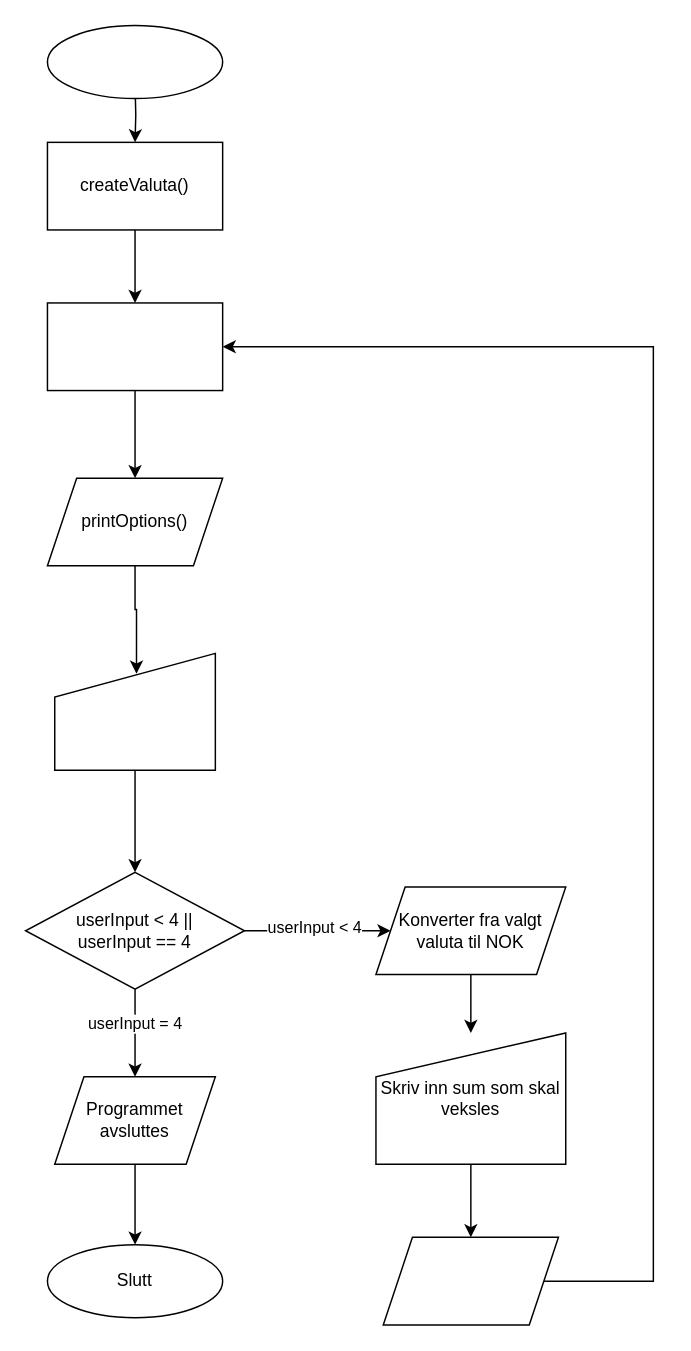
The diagram is 691 pixels wide and 1351 high, and some of its shapes have lost their labels. The shapes that lost their labels are listed below. From the top down, each one's centre as x and y in pixels, then its label:
At pixel 134 61: "Start".
At pixel 134 346: "getUserInput()".
At pixel 134 711: "Velg valuta eller avslutt".
At pixel 470 1280: "sum * kurs".
